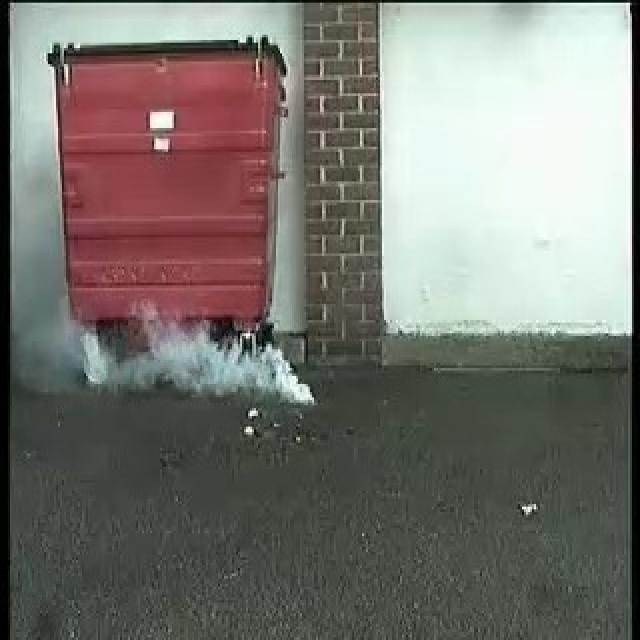smoke: (86, 319, 311, 403)
